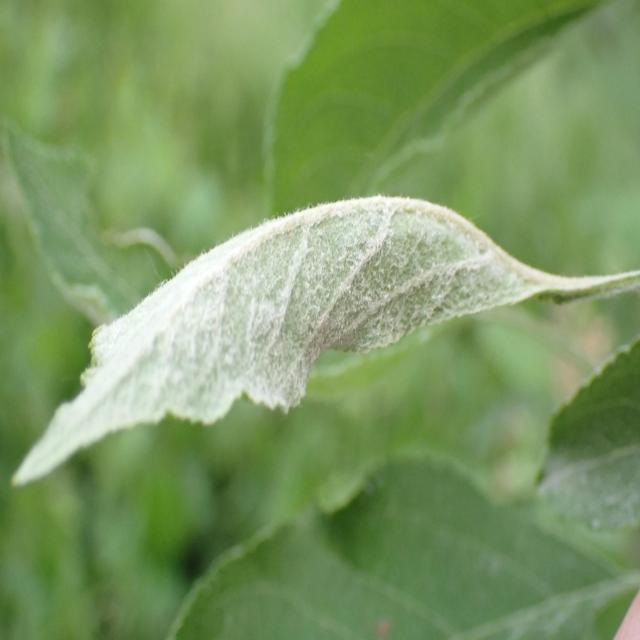Powdery_mildew: (15, 194, 581, 493)
